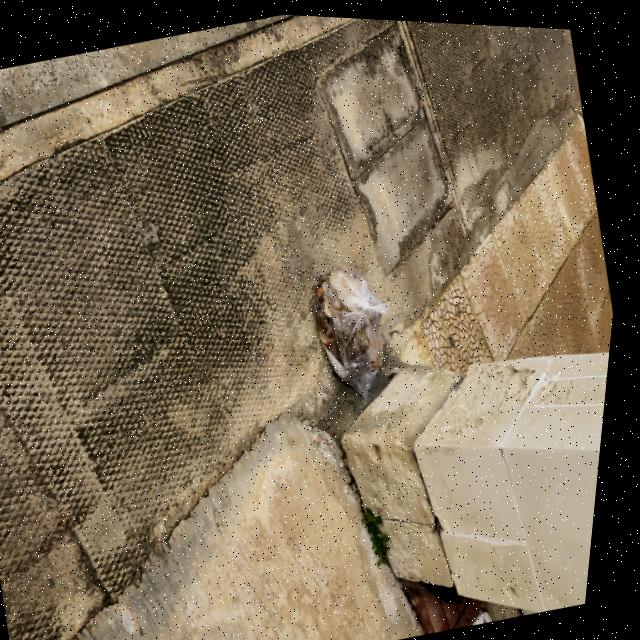Organic Waste -White Bag-: (304, 252, 420, 408)
